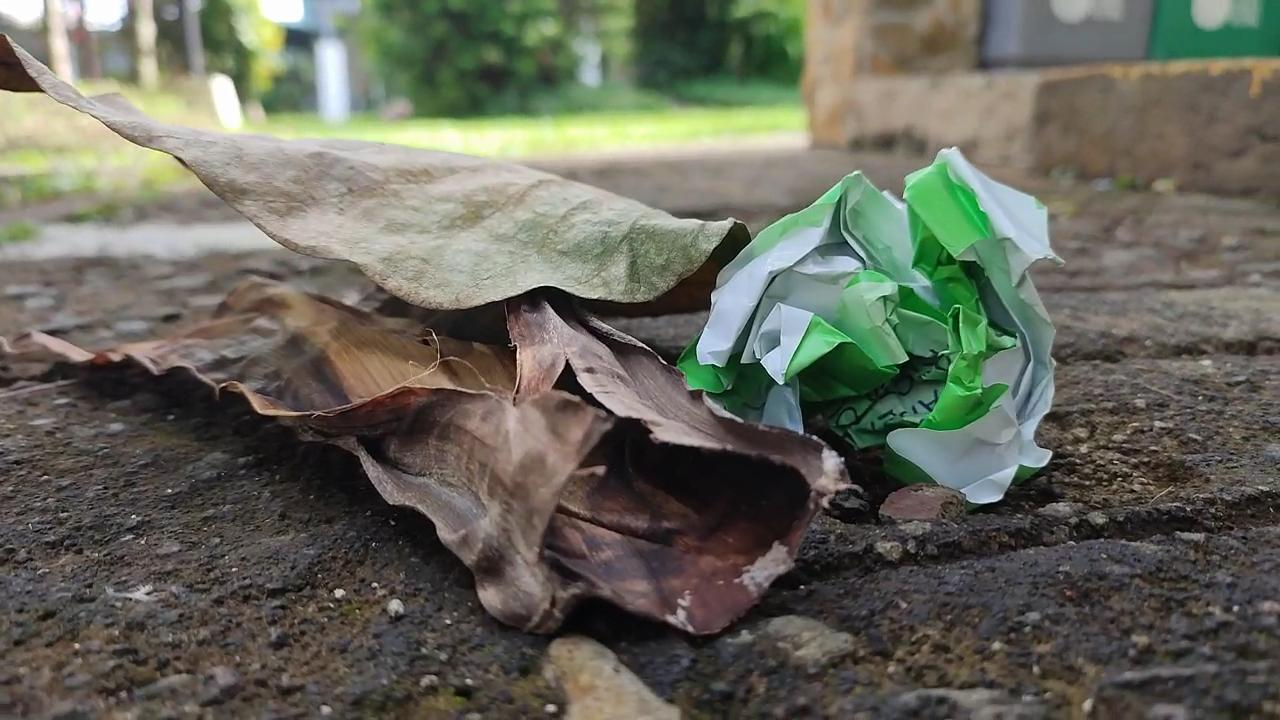Paper: (692, 137, 1075, 531)
